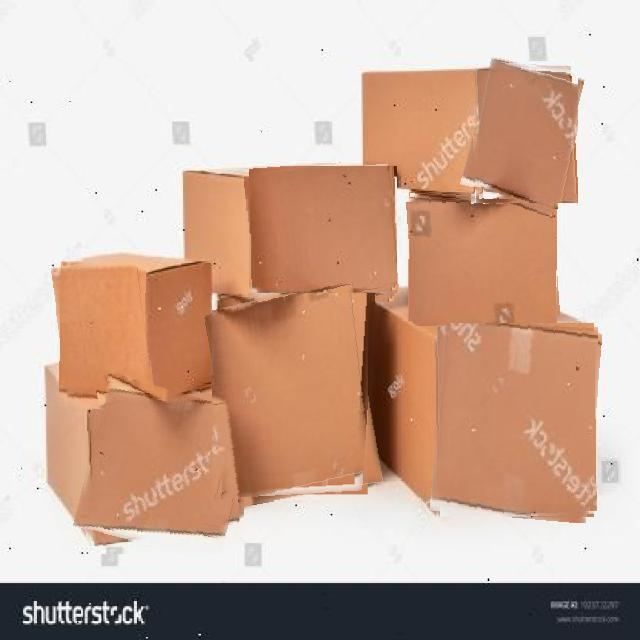BoxFace: (212, 294, 376, 502), (433, 323, 598, 520), (81, 380, 244, 554), (246, 166, 397, 305), (408, 191, 558, 324), (468, 60, 578, 203), (56, 259, 152, 409)
